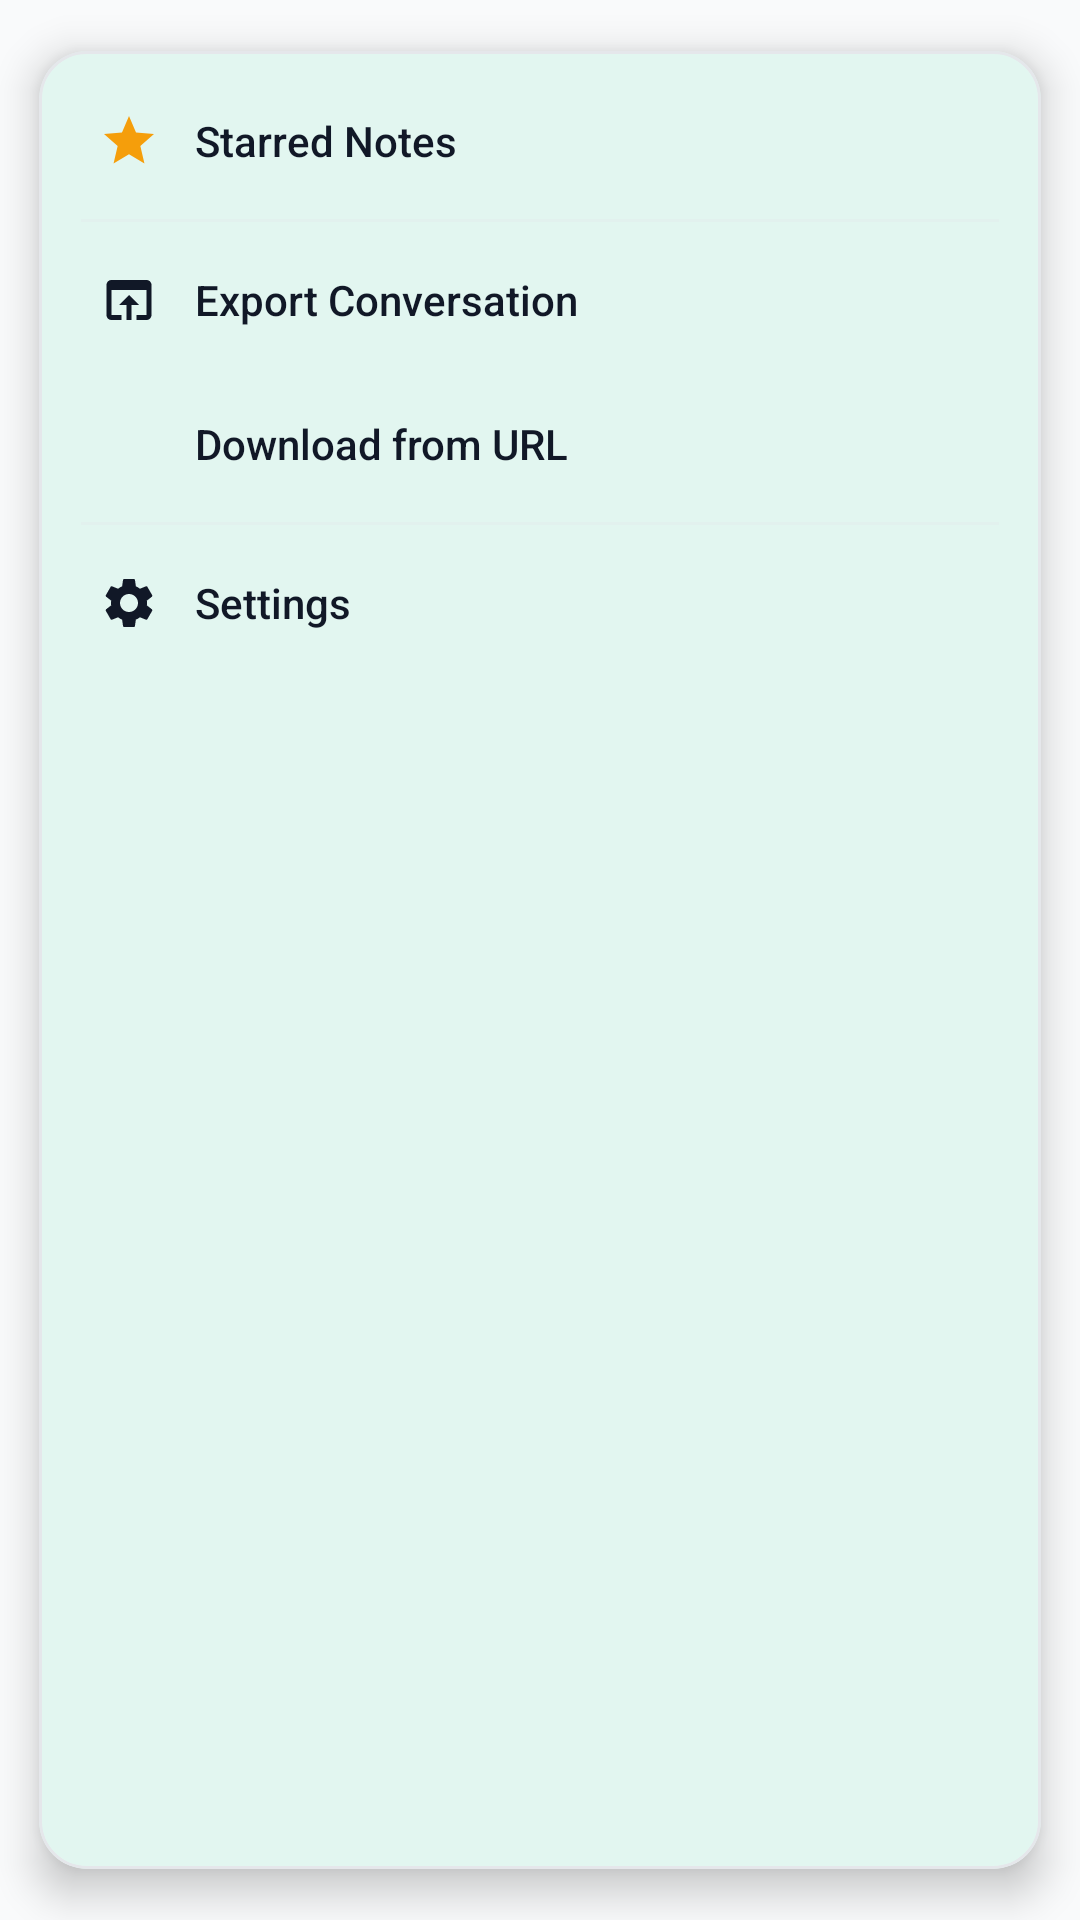

Named icons in this screenshot (1080×1920) and their bounding boxes, (x1, y1, x2, y2):
Starred Messages: (104, 116, 154, 164)
